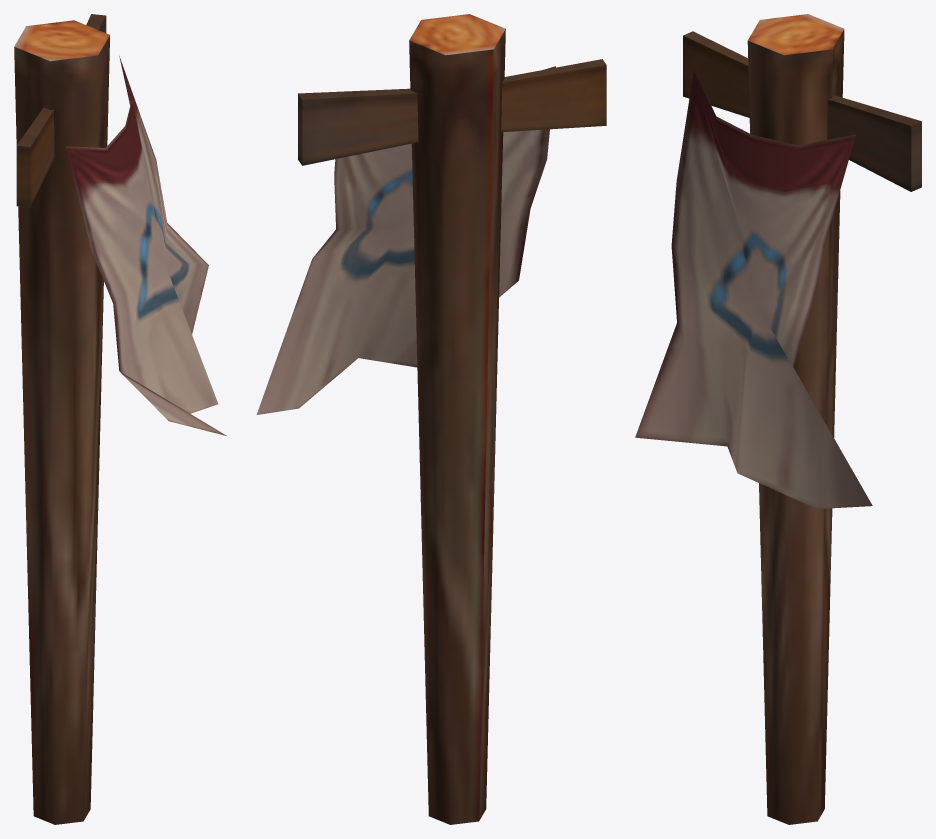
Rendered from qizi_002.FBX.
3 views of the same model, side by side, from view 1: azimuth 30°, elevation 25°; view 2: azimuth 150°, elevation 25°; view 3: azimuth 270°, elevation 25° (orthographic).
Visible parts, largest first — view 1: qizi_002; view 2: qizi_002; view 3: qizi_002.
Part boxes in pixels (left/top/right/bottom): qizi_002: left=14, top=14, right=226, bottom=824; qizi_002: left=256, top=14, right=606, bottom=824; qizi_002: left=635, top=14, right=921, bottom=824.
Size of the model in its own units: 76.45 by 219 by 73.03.
